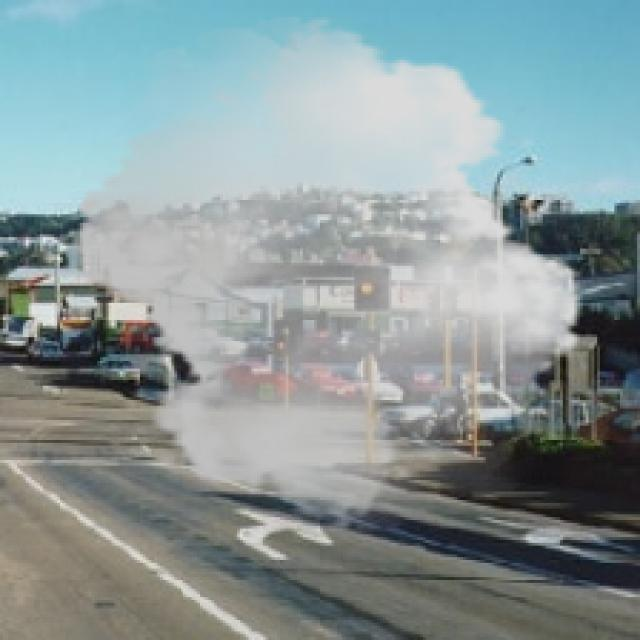smoke: (54, 17, 603, 532)
